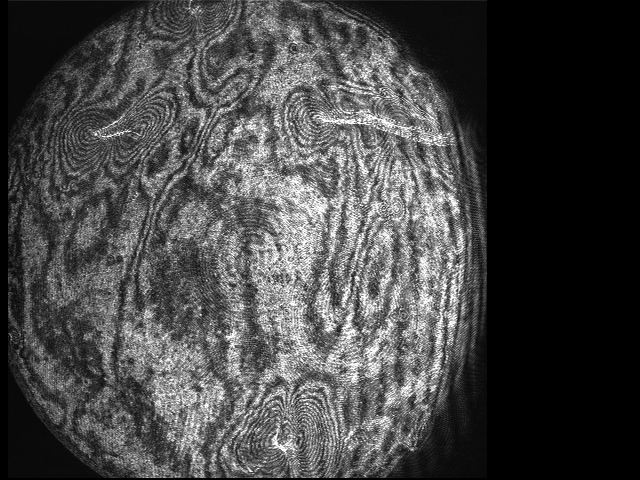plume: (234, 393, 343, 480), (61, 96, 175, 171), (152, 1, 246, 39)
